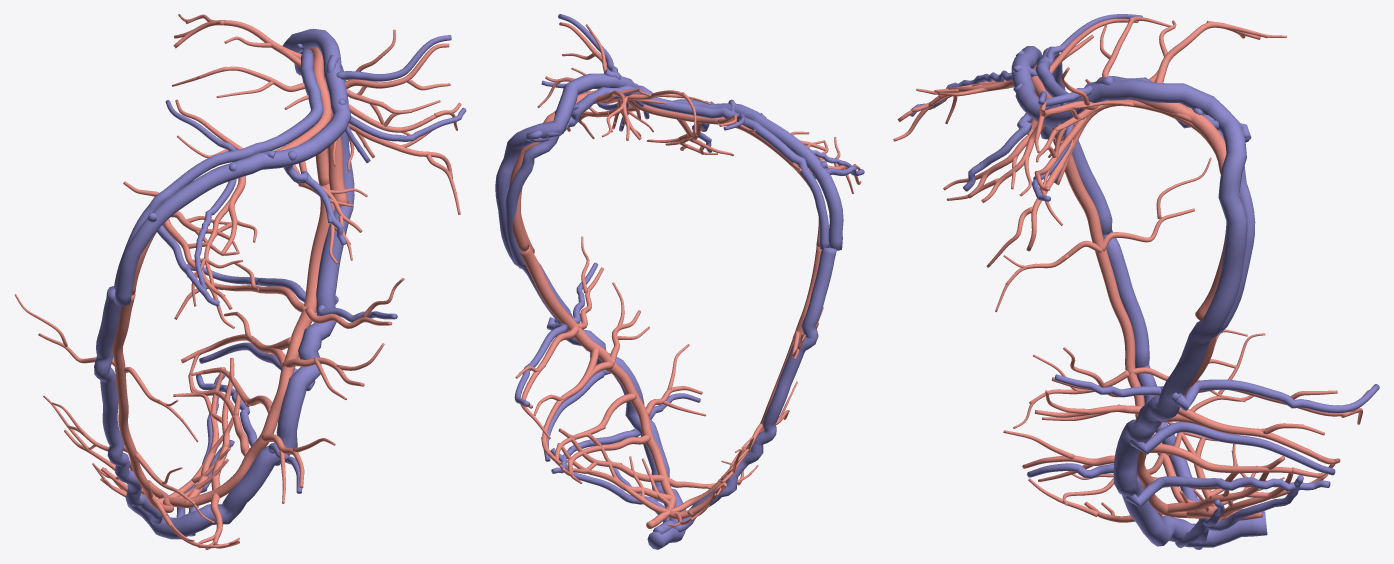
The model's file is vessels_64.glb.
The picture shows the model from 3 angles, left to right: view 1: azimuth 30°, elevation 25°; view 2: azimuth 150°, elevation 25°; view 3: azimuth 270°, elevation 25°; orthographic projection. The views are drawn at different scales.
Parts seen in each view (by area): view 1: Renderer Node; view 2: Renderer Node; view 3: Renderer Node.
Boxes of the visible parts, <box> form: Renderer Node: <box>15,14,466,549</box>; Renderer Node: <box>495,14,864,549</box>; Renderer Node: <box>893,14,1379,549</box>.
Size of the model in its own units: 95.12 by 123 by 95.63.
